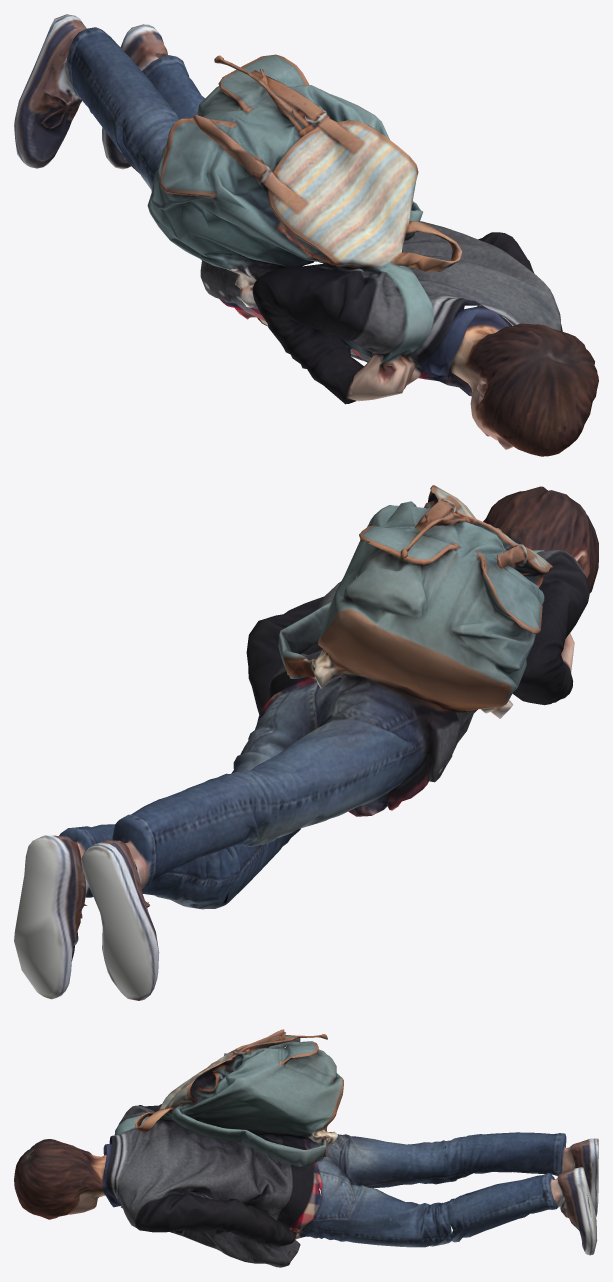
File: xiaotou.glb
3 renders of one model, top to bottom at view 1: azimuth 30°, elevation 25°; view 2: azimuth 150°, elevation 25°; view 3: azimuth 270°, elevation 25°, orthographic. The views are drawn at different scales.
Parts seen in each view (by area): view 1: xiaotou; view 2: xiaotou; view 3: xiaotou.
Part boxes in pixels (x1,y1,x2,y2): xiaotou: (14, 14, 598, 456); xiaotou: (14, 485, 598, 1000); xiaotou: (14, 1029, 598, 1267).
Bounding box in the file's own units: 0.6424 × 0.6393 × 1.69.
Materials: 1 (1 with a texture image).
